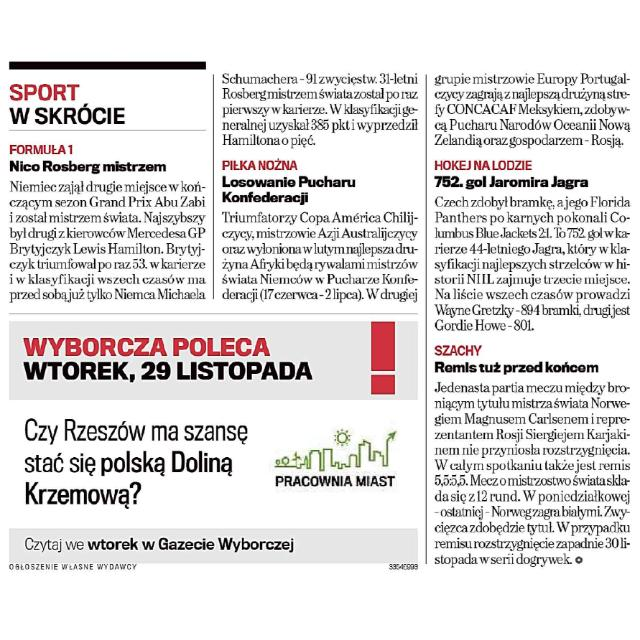body: (430, 382, 634, 568), (430, 194, 634, 332), (5, 177, 209, 301), (220, 210, 422, 306), (428, 70, 634, 150), (222, 68, 422, 150)
lead: (220, 154, 362, 208), (431, 336, 603, 380), (5, 140, 171, 176), (432, 155, 596, 191)
title: (5, 78, 130, 128)
